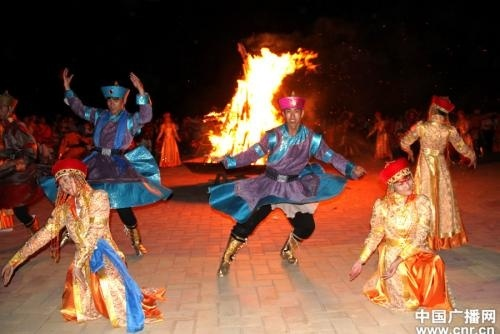fire: (206, 44, 317, 160)
